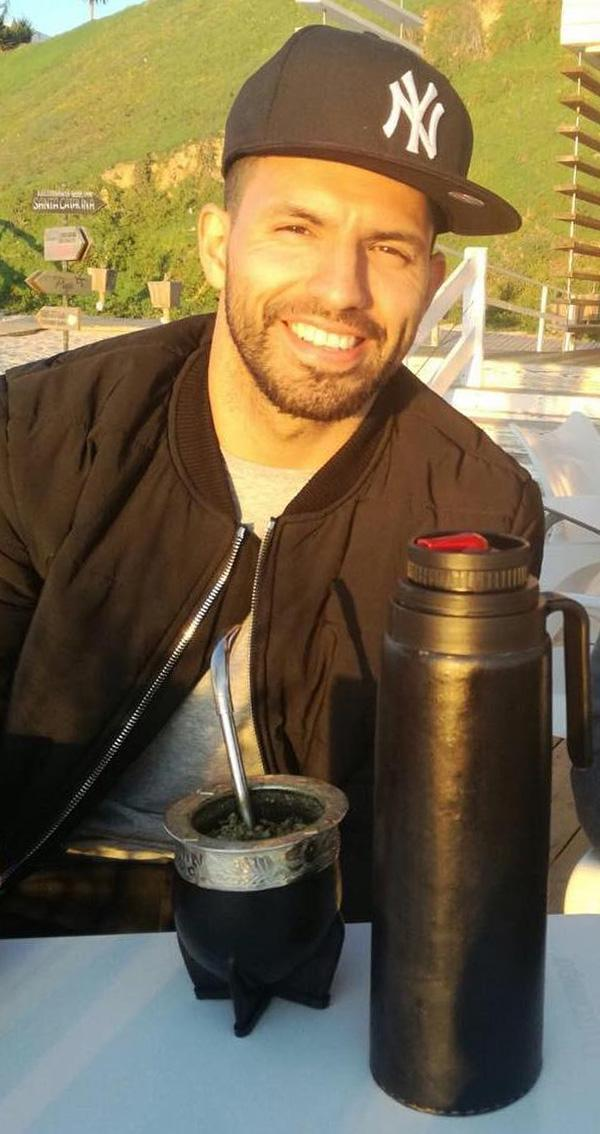guampa: (146, 615, 356, 1048)
